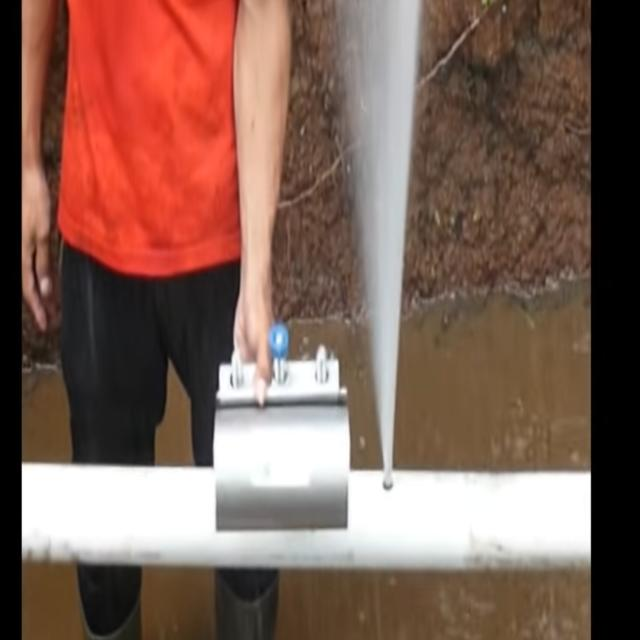leak: (329, 0, 426, 476)
